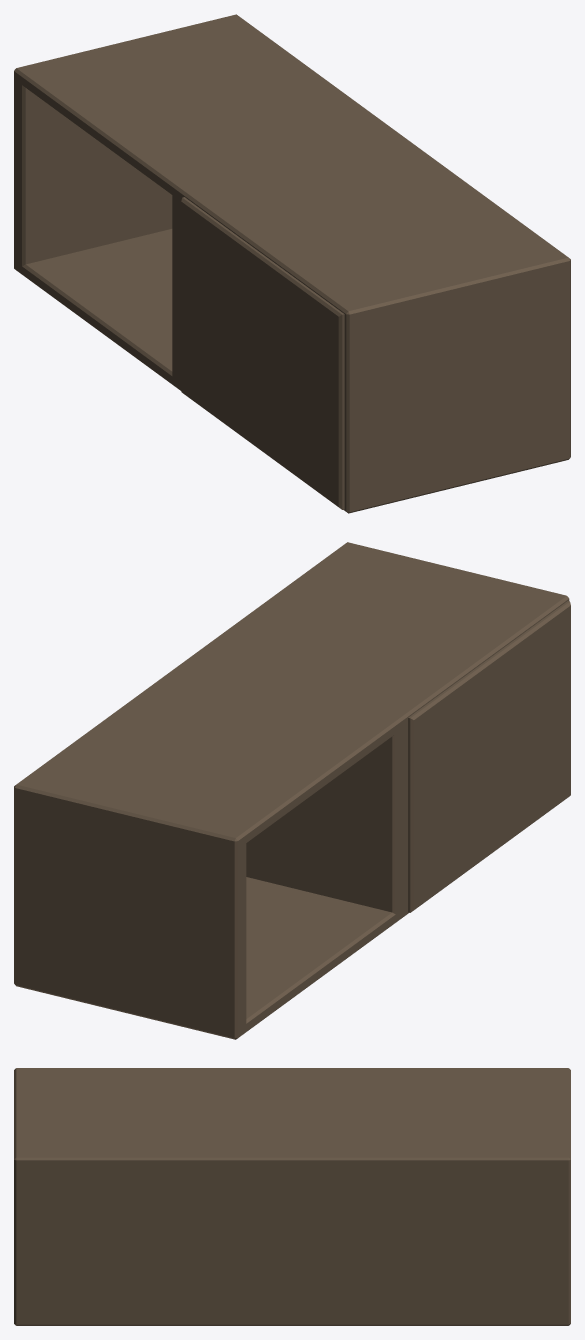
The model's file is tvTable.fbx.
The picture shows the model from 3 angles, top to bottom: view 1: azimuth 30°, elevation 25°; view 2: azimuth 150°, elevation 25°; view 3: azimuth 270°, elevation 25°; orthographic projection. The views are drawn at different scales.
Visible parts, largest first — view 1: tvTable; view 2: tvTable; view 3: tvTable.
Part boxes in pixels (box(x1,y1,x2,y2)): tvTable: box(14, 14, 570, 513); tvTable: box(14, 542, 570, 1039); tvTable: box(14, 1068, 570, 1325).
Bounding box in the file's own units: 23.73 × 20 × 60.
